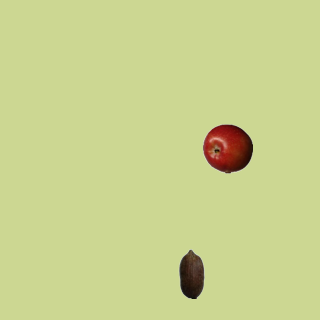Apple Braeburn: (202, 123, 252, 173)
Nut Pecan: (166, 248, 216, 298)
